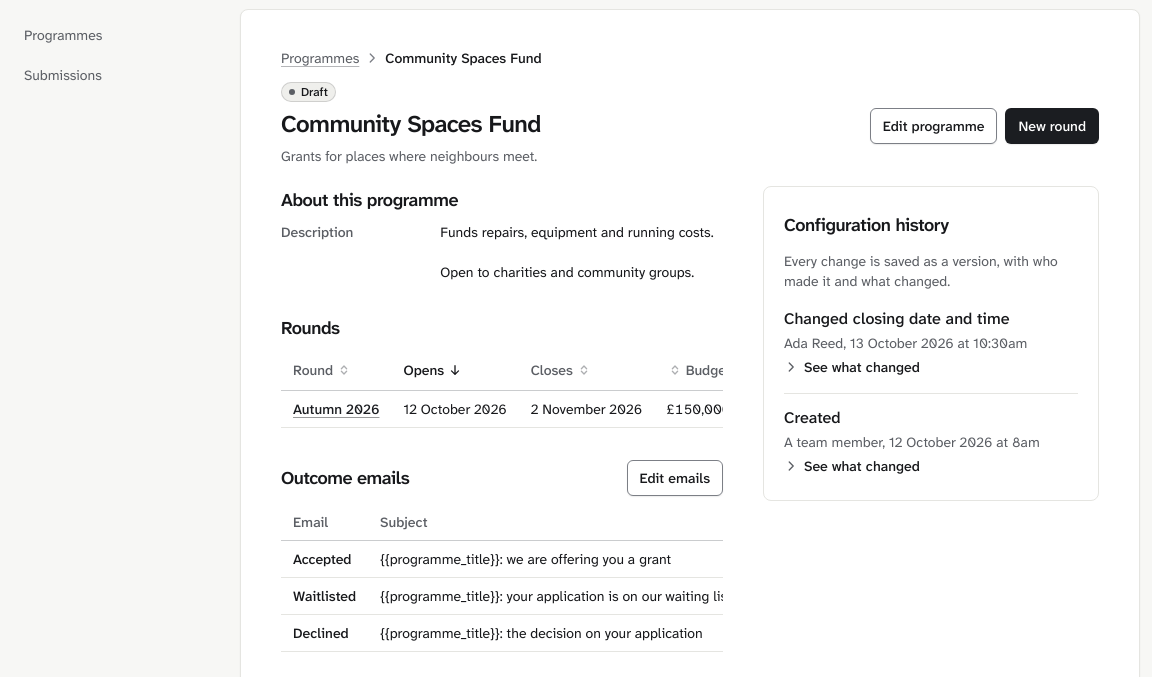
Scenario: the configuration history › says who changed what and when, with the old and new values in words
Check: the text "Changed closing date and time" is shown, box [784,308,1010,329]
Check: the list item that starts with "Changed closing date and time" shows "Ada Reed, 13 October 2026 at", box [784,307,1078,394]
Click the heading "See what changed" below "Changed closing date and time" at coordinates (852, 367), box [784,355,920,379]
(page scrolled)
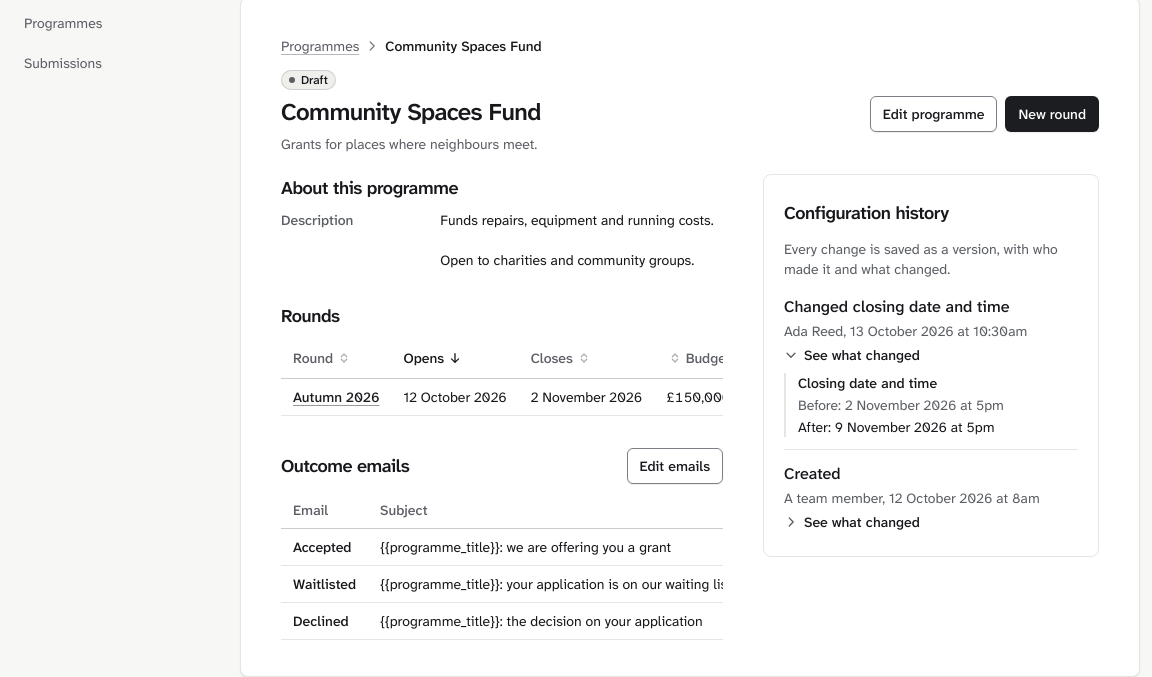
Check: the text "Closing date and time" is shown, box [798,374,937,392]
Check: the text "Before: 2 November 2026 at 5pm" is shown, box [798,396,1004,414]
Check: the text "After: 9 November 2026 at 5pm" is shown, box [798,418,994,436]
